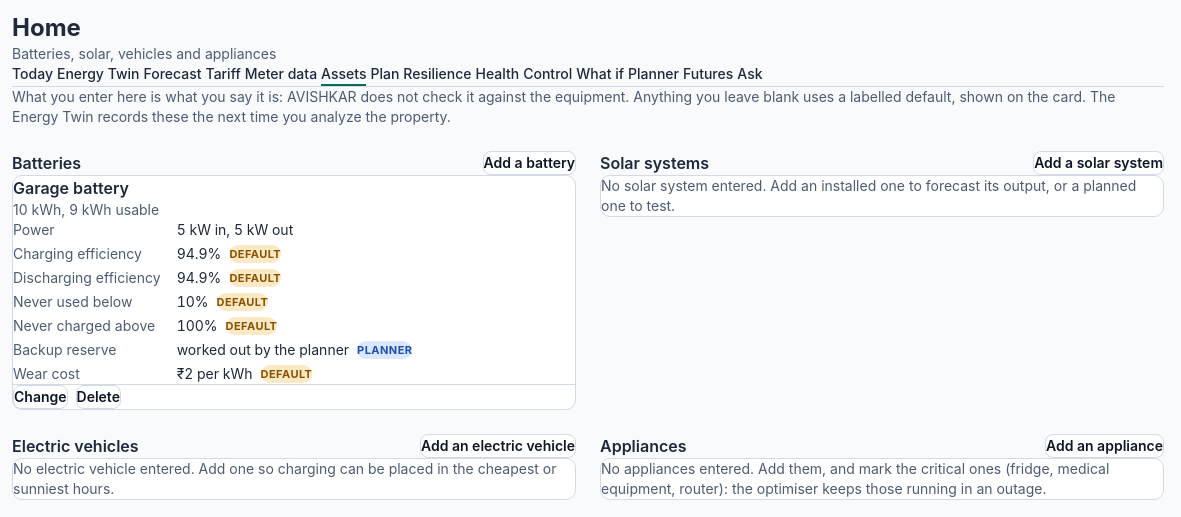
Test: AssetsView › deletes an asset and says so
Click the button with aria-label "Delete Garage battery" at (98, 397), box left=76, top=385, right=121, bottom=409
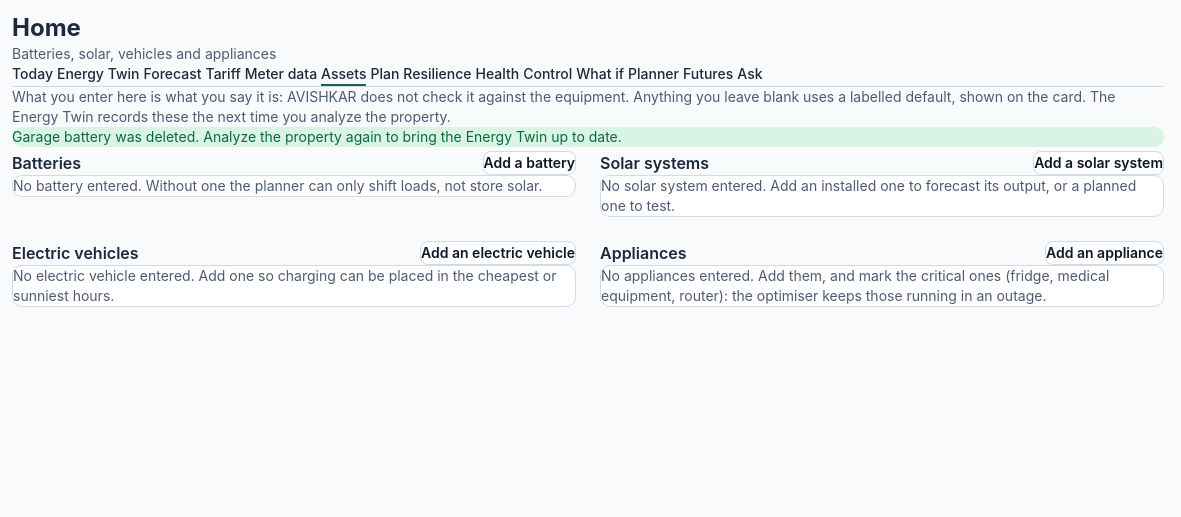
Expected: the text "Garage battery was deleted" is shown, left=12, top=128, right=622, bottom=145
